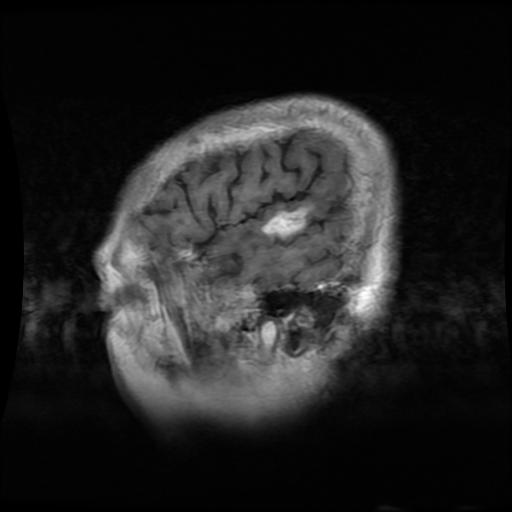Gliomia_tumour: (259, 204, 310, 237)
